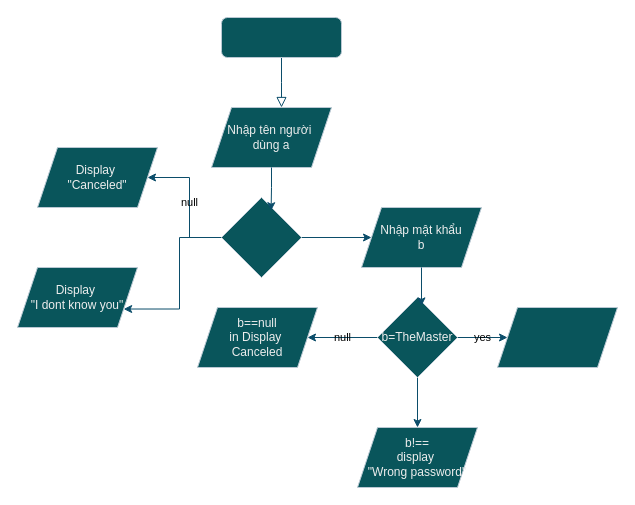
Image size: 635x505. Some labels were removed from this diagram. Here are the shapes that lost their labels. From the top down, the centre of each, then its label:
At pixel 281 37: "Begin".
At pixel 261 237: "a=admin".
At pixel 557 337: "Display Welcome".
